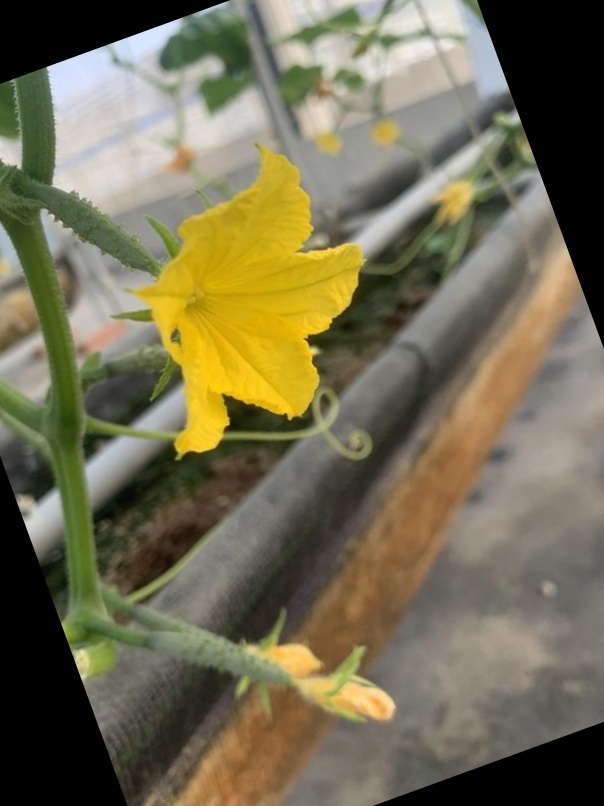flowering: (82, 152, 380, 469)
